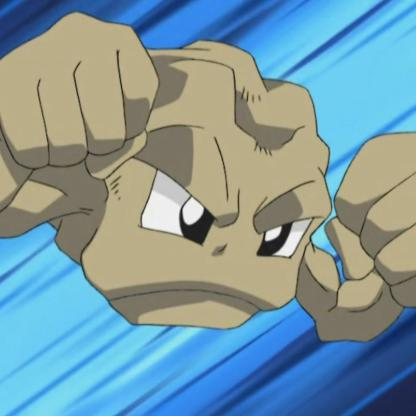Geodude: (1, 1, 416, 416)
